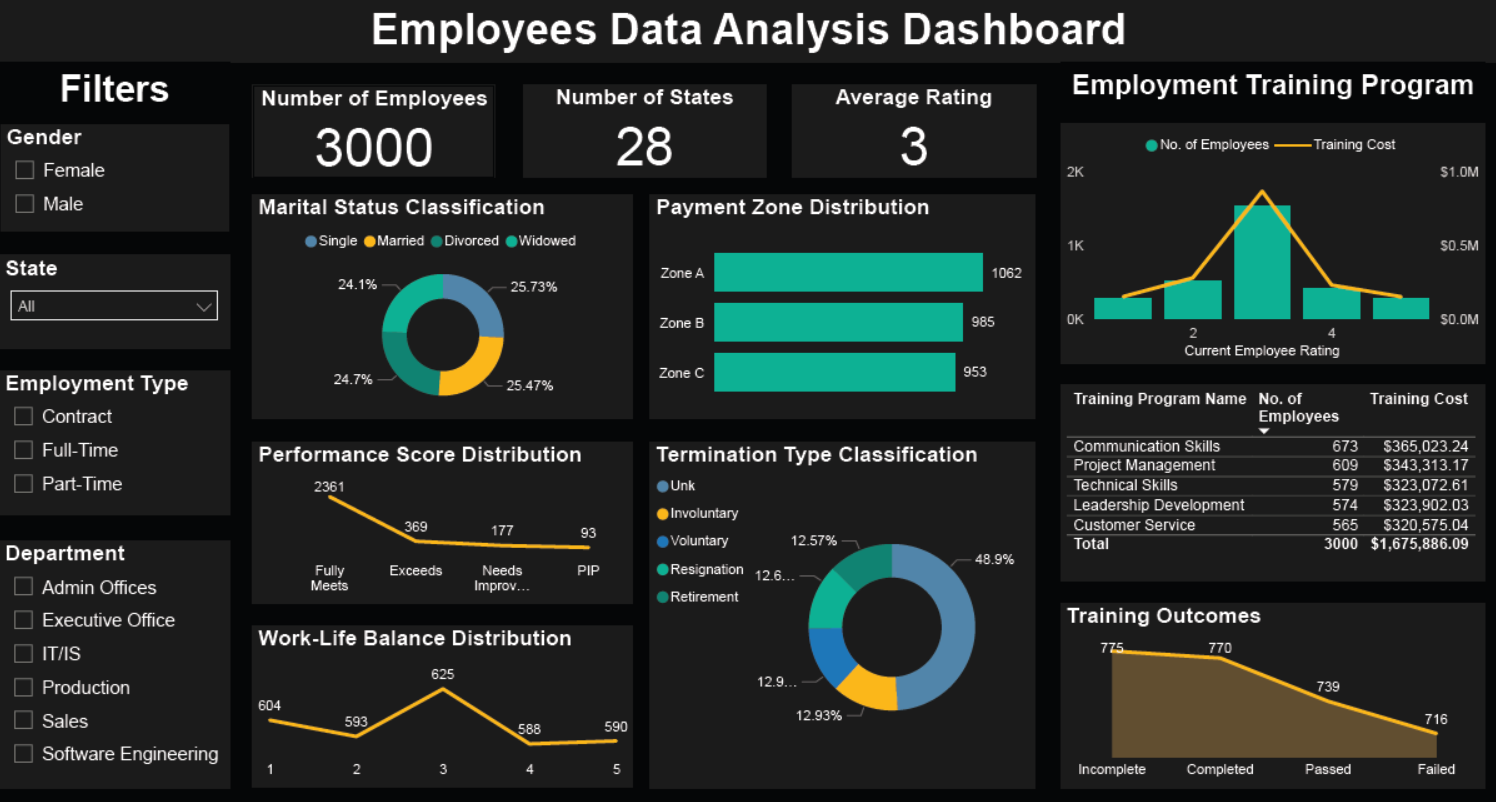

What the dashboard file says about the page in this screenshot:
{"tool":"powerbi","page":{"name":"Employees Data Analysis","canvas":[1300,700],"ordinal":0},"visuals":[{"type":"card","title":"Number of Employees","fields":{"Values":["CountNonNull(Sheet1.Employee ID)"]},"box":[220,75,210,80],"z":0},{"type":"textbox","box":[0,0,1300,54.9],"z":1000},{"type":"slicer","title":"Department","fields":{"Values":["Sheet1.DepartmentType"]},"box":[0,470,200.3,215],"z":2000},{"type":"slicer","title":"Gender","fields":{"Values":["Sheet1.GenderCode"]},"box":[0,107,200.3,95.3],"z":3000},{"type":"donutChart","title":"Marital Status Classification","fields":{"Y":["CountNonNull(Sheet1.Employee ID)"],"Category":["Sheet1.MaritalDesc"]},"box":[219.5,169.5,330.5,193.9],"z":4000},{"type":"barChart","title":"Payment Zone Distribution","fields":{"Y":["CountNonNull(Sheet1.Employee ID)"],"Category":["Sheet1.PayZone"]},"box":[564.6,169.5,334.1,193.9],"z":5000},{"type":"lineStackedColumnComboChart","title":"Employee Training Program","fields":{"Y2":["Sum(Sheet1.Training Cost)"],"Y":["CountNonNull(Sheet1.Employee ID)"],"Category":["Sheet1.Current Employee Rating"]},"box":[920.7,107.3,368.3,208.5],"z":6000},{"type":"card","title":"Number of States","fields":{"Values":["Count(Sheet1.State)"]},"box":[455,75,210,80],"z":7000},{"type":"tableEx","fields":{"Values":["Sheet1.Training Program Name","CountNonNull(Sheet1.Employee ID)","Sum(Sheet1.Training Cost)"]},"box":[920.7,334.1,368.3,170],"z":8000},{"type":"areaChart","title":"Training Outcomes","fields":{"Category":["Sheet1.Training Outcome"],"Y":["CountNonNull(Sheet1.Employee ID)"]},"box":[920.7,524.4,368.3,159.8],"z":9000},{"type":"donutChart","title":"Termination Type Classification","fields":{"Category":["Sheet1.TerminationType"],"Y":["CountNonNull(Sheet1.Employee ID)"]},"box":[564.6,384.1,334.1,300],"z":10000},{"type":"lineChart","title":"Performance Score Distribution","fields":{"Category":["Sheet1.Performance Score"],"Y":["CountNonNull(Sheet1.Employee ID)"]},"box":[219.5,384.1,330.5,140],"z":11000},{"type":"slicer","title":"Employment Type","fields":{"Values":["Sheet1.EmployeeType"]},"box":[0,322,200.3,125.5],"z":12000},{"type":"slicer","title":"State","fields":{"Values":["Sheet1.State"]},"box":[0,222,200.3,80.8],"z":13000},{"type":"card","title":"Average Rating","fields":{"Values":["Avg(Sheet1.Current Employee Rating)"]},"box":[687.8,75,211,80],"z":14000},{"type":"lineChart","title":"Work-Life Balance Distribution","fields":{"Y":["CountNonNull(Sheet1.Employee ID)"],"Category":["Sheet1.Work-Life Balance Score"]},"box":[219.5,543.9,330.5,140.2],"z":15000},{"type":"textbox","box":[0,54.9,200,47.6],"z":16000},{"type":"textbox","box":[920.7,54.9,368.3,52.4],"z":17000}]}

Visuals, with their boxes in screenshot pixels (x1, y1, x2, y2), scaled from the page's 1300x700 canvas onto the 1496x802 screenshot:
"Number of Employees" card: [253, 86, 495, 178]
textbox: [0, 0, 1495, 63]
"Department" slicer: [0, 538, 230, 785]
"Gender" slicer: [0, 123, 230, 232]
"Marital Status Classification" donutChart: [253, 194, 633, 416]
"Payment Zone Distribution" barChart: [650, 194, 1034, 416]
"Employee Training Program" lineStackedColumnComboChart: [1060, 123, 1483, 362]
"Number of States" card: [524, 86, 765, 178]
tableEx - Sheet1.Training Program Name x CountNonNull(Sheet1.Employee ID): [1060, 383, 1483, 578]
"Training Outcomes" areaChart: [1060, 601, 1483, 784]
"Termination Type Classification" donutChart: [650, 440, 1034, 784]
"Performance Score Distribution" lineChart: [253, 440, 633, 600]
"Employment Type" slicer: [0, 369, 230, 513]
"State" slicer: [0, 254, 230, 347]
"Average Rating" card: [791, 86, 1034, 178]
"Work-Life Balance Distribution" lineChart: [253, 623, 633, 784]
textbox: [0, 63, 230, 117]
textbox: [1060, 63, 1483, 123]
